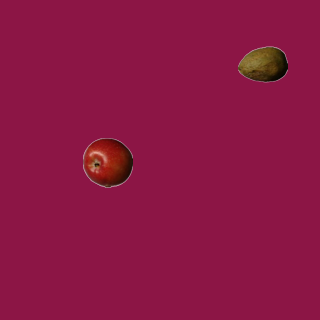Apple Braeburn: (82, 137, 132, 187)
Papaya: (237, 39, 287, 89)
